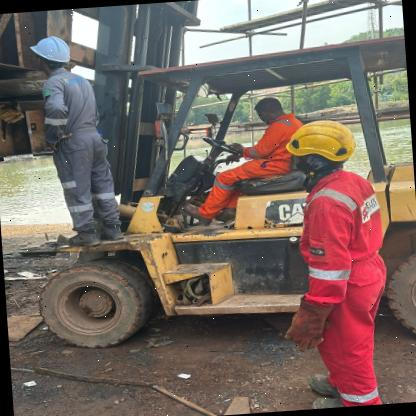bota: (304, 372, 338, 395), (183, 202, 211, 227), (64, 230, 100, 248), (94, 221, 124, 242), (214, 206, 238, 222)
